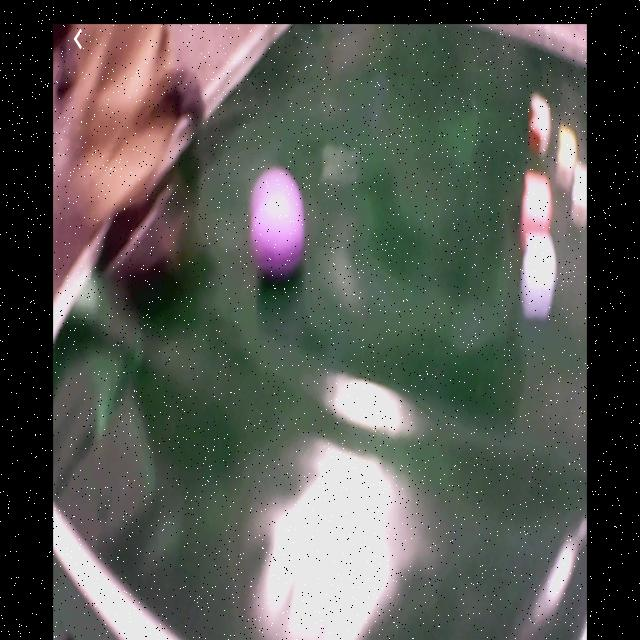ball: (250, 196, 307, 276)
